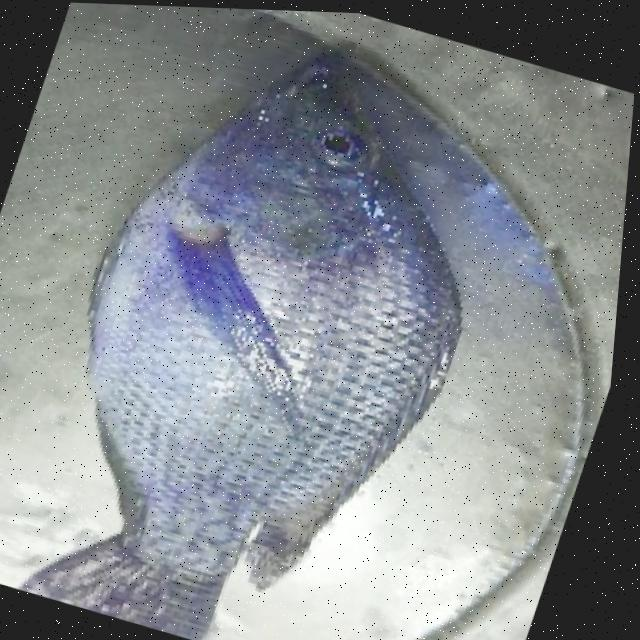Fresh: (0, 6, 505, 640)
